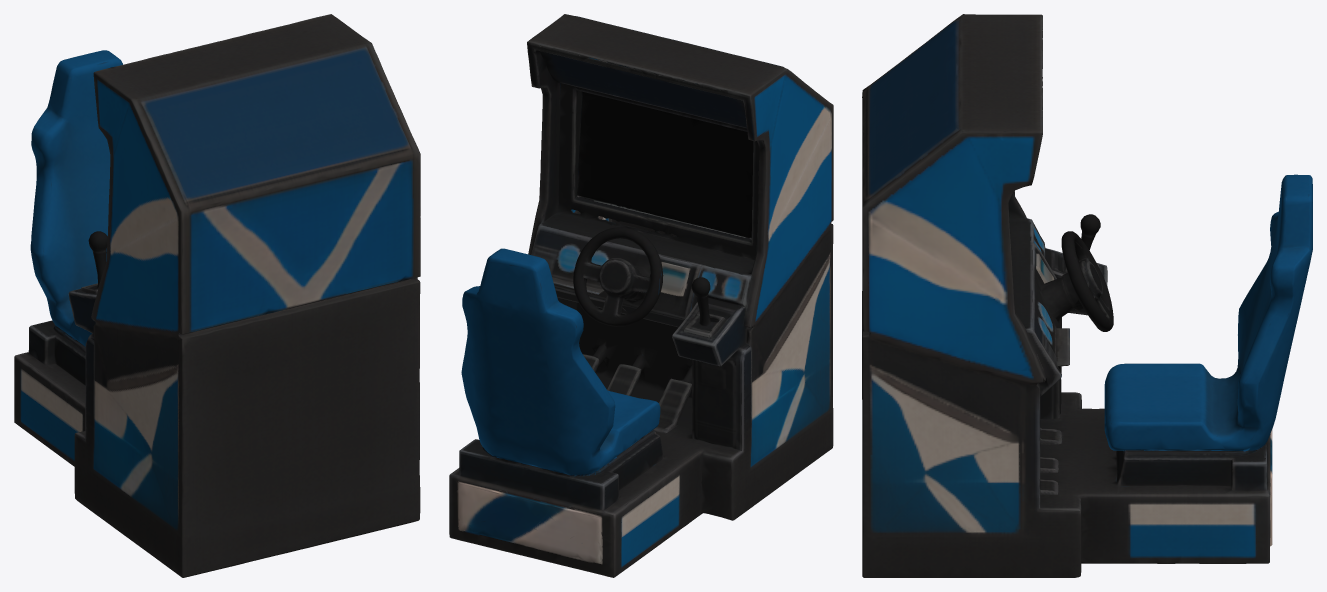
Rendered from 13_arcade_13_racer_blue.glb.
3 renders of one model, left to right at view 1: azimuth 30°, elevation 25°; view 2: azimuth 150°, elevation 25°; view 3: azimuth 270°, elevation 25°, orthographic. The views are drawn at different scales.
Visible parts, largest first — view 1: world; view 2: world; view 3: world.
Part boxes in pixels (x1,y1,x2,y2): world: (14, 14, 420, 577); world: (449, 14, 833, 577); world: (862, 14, 1312, 577).
Size of the model in its own units: 0.5744 by 1 by 0.9171.
1 material, 1 textured.
